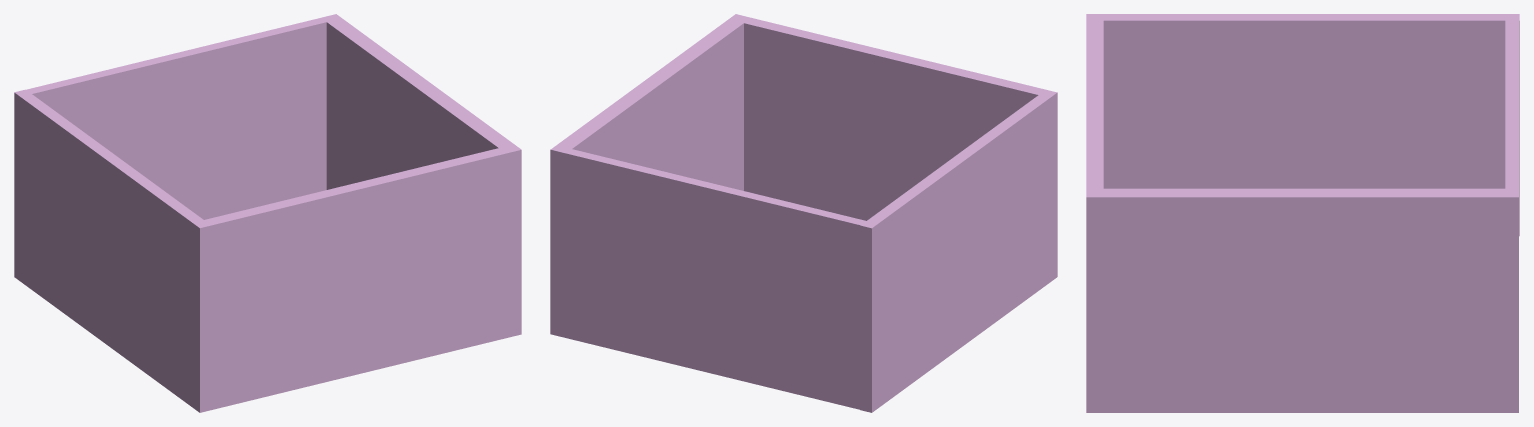
The model's file is Walls.fbx.
3 views of the same model, side by side, from view 1: azimuth 30°, elevation 25°; view 2: azimuth 150°, elevation 25°; view 3: azimuth 270°, elevation 25° (orthographic). The views are drawn at different scales.
Parts seen in each view (by area): view 1: Walls; view 2: Walls; view 3: Walls.
Boxes of the visible parts, x1,y1,x2,y2 form: Walls: (14, 14, 521, 412); Walls: (550, 14, 1057, 412); Walls: (1086, 14, 1519, 412).
Bounding box in the file's own units: 1681 × 922 × 1680.
